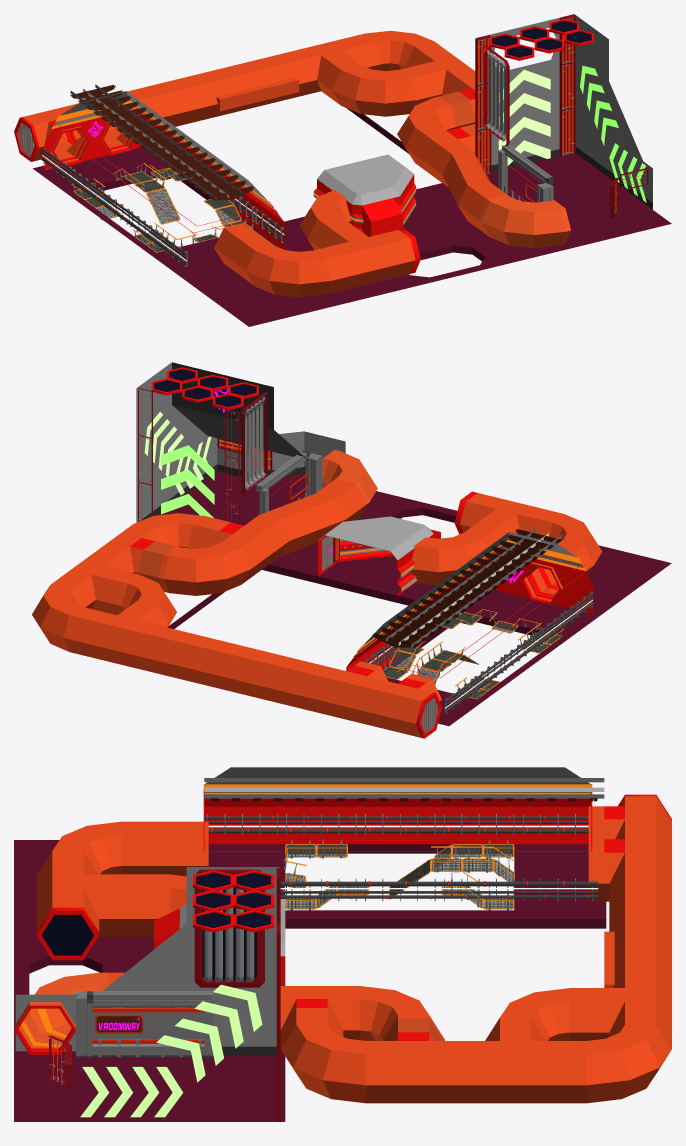
File: floor-02.gltf
3 renders of one model, top to bottom at view 1: azimuth 30°, elevation 25°; view 2: azimuth 150°, elevation 25°; view 3: azimuth 270°, elevation 25°, orthographic. The views are drawn at different scales.
Parts seen in each view (by area): view 1: floor.main, hextunnel.6u.corner.000 (×6), airlift-walls, hextunnel.t-con.000 (×3), pipes.3-rows, control-room, walkway-room-roof, hextunnel.10u.pipes.000, hextunnel.t-con.short.000 (×2), hextunnel.10u.000, Pipes.001, Details_Vent_5 (+10 smaller); view 2: floor.main, hextunnel.6u.corner.000 (×7), airlift-walls, hextunnel.t-con.000 (×3), hextunnel.t-con.short.000 (×4), pipes.3-rows, walkway-room-roof, control-room, hextunnel.10u.000, hextunnel.10u.pipes.000, hextunnel.10u.sidestep.3u.000, Details_Vent_5 (+8 smaller); view 3: floor.main, hextunnel.6u.corner.000 (×7), walkway-room-roof, hextunnel.t-con.000 (×3), hextunnel.t-con.short.000 (×4), airlift-walls, hextunnel.wall.000 (×7), pipes.3-rows, Pipes.001, hextunnel.3u.000 (×6), arrow-1 (×4), Pipes (+9 smaller).
Part boxes in pixels (left/top/right/bottom): floor.main: left=32, top=108, right=671, bottom=326; hextunnel.6u.corner.000 (×6): left=243, top=30, right=570, bottom=297; airlift-walls: left=489, top=14, right=652, bottom=209; hextunnel.t-con.000 (×3): left=280, top=35, right=475, bottom=293; pipes.3-rows: left=70, top=84, right=254, bottom=200; control-room: left=313, top=154, right=416, bottom=236; walkway-room-roof: left=44, top=91, right=284, bottom=249; hextunnel.10u.pipes.000: left=201, top=54, right=299, bottom=117; hextunnel.t-con.short.000 (×2): left=20, top=105, right=475, bottom=185; hextunnel.10u.000: left=122, top=73, right=217, bottom=127; Pipes.001: left=41, top=148, right=187, bottom=266; Details_Vent_5: left=483, top=45, right=509, bottom=146; floor.main: left=157, top=471, right=671, bottom=726; hextunnel.6u.corner.000 (×7): left=32, top=449, right=602, bottom=653; airlift-walls: left=136, top=362, right=345, bottom=522; hextunnel.t-con.000 (×3): left=54, top=493, right=558, bottom=673; hextunnel.t-con.short.000 (×4): left=101, top=519, right=435, bottom=737; pipes.3-rows: left=372, top=529, right=561, bottom=647; walkway-room-roof: left=346, top=532, right=593, bottom=678; control-room: left=317, top=516, right=440, bottom=595; hextunnel.10u.000: left=232, top=647, right=331, bottom=712; hextunnel.10u.pipes.000: left=151, top=628, right=249, bottom=692; hextunnel.10u.sidestep.3u.000: left=253, top=490, right=351, bottom=560; Details_Vent_5: left=241, top=392, right=268, bottom=496; floor.main: left=14, top=840, right=606, bottom=1121; hextunnel.6u.corner.000 (×7): left=14, top=821, right=671, bottom=1103; walkway-room-roof: left=203, top=767, right=592, bottom=851; hextunnel.t-con.000 (×3): left=36, top=854, right=671, bottom=1103; hextunnel.t-con.short.000 (×4): left=280, top=796, right=671, bottom=1103; airlift-walls: left=15, top=867, right=280, bottom=1055; hextunnel.wall.000 (×7): left=36, top=870, right=274, bottom=960; pipes.3-rows: left=204, top=778, right=604, bottom=801; Pipes.001: left=204, top=814, right=588, bottom=836; hextunnel.3u.000 (×6): left=130, top=806, right=604, bottom=1045; arrow-1 (×4): left=80, top=984, right=262, bottom=1117; Pipes: left=280, top=878, right=598, bottom=901.
Size of what is drawn, in the model's own units: 64 by 21.54 by 63.08.
47 materials, 6 textured.
